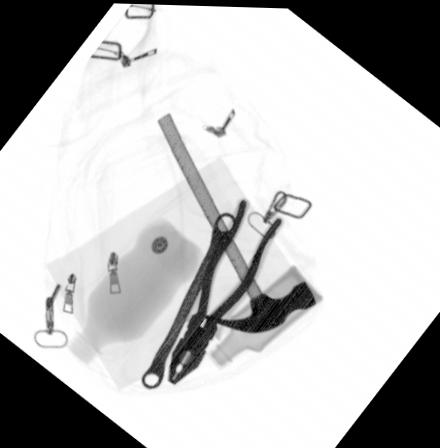Hammer: (154, 111, 318, 333)
Pliers: (168, 196, 282, 387)
Wrench: (138, 211, 237, 386)
